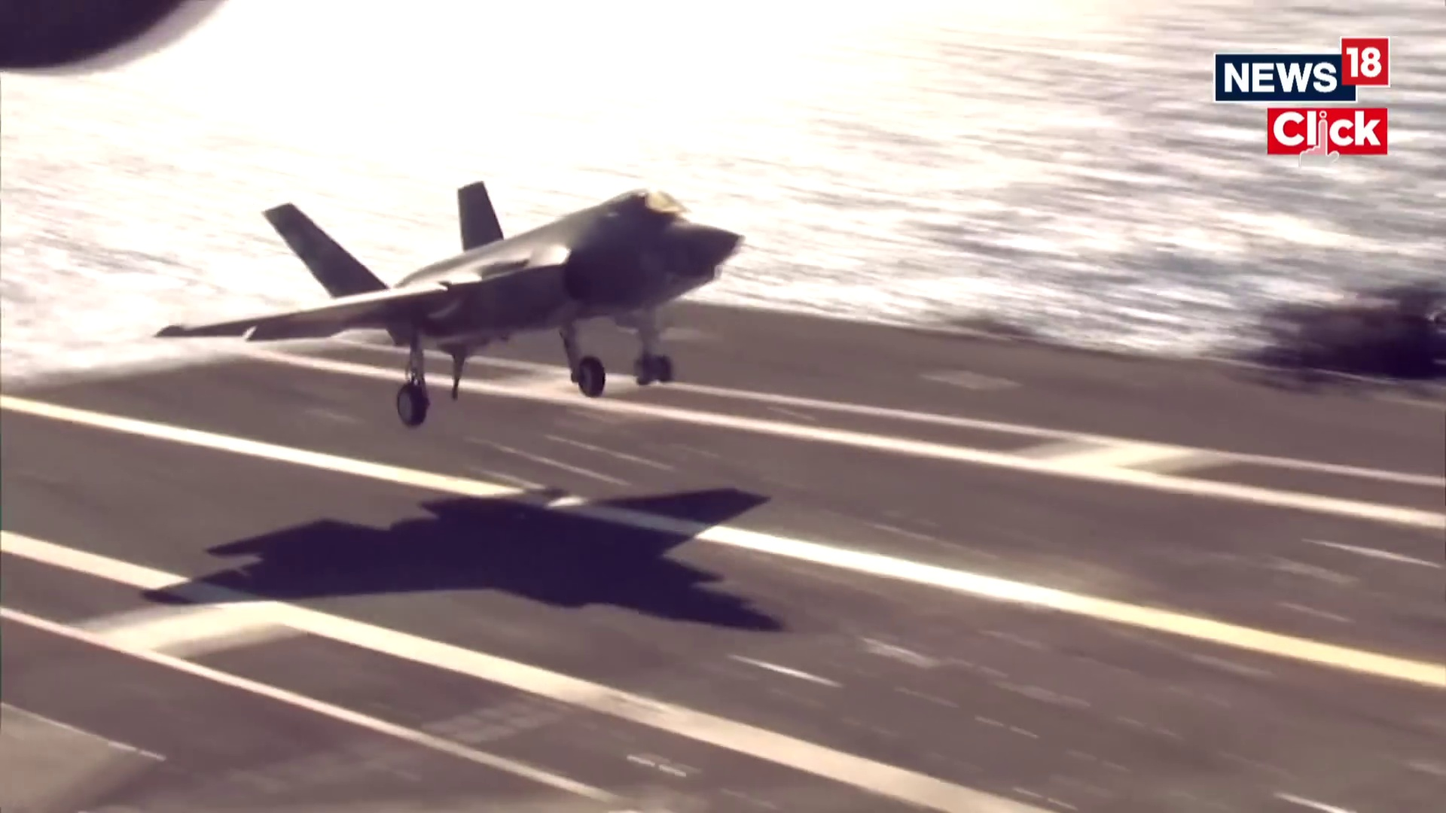F35: (141, 159, 753, 436)
